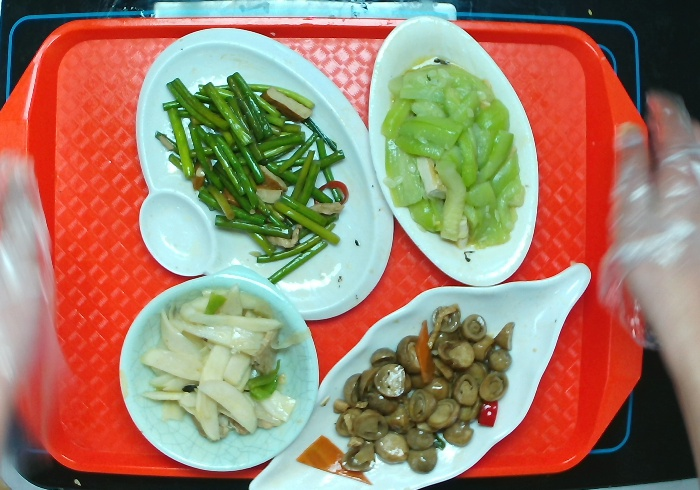RJxy-Bai_Se_Tuo_Yuan: (363, 14, 547, 290)
RJxy-Shu_Ye_Pan: (252, 262, 594, 487)
RJxy-Xiao_Jiao_Yuan_Wan: (116, 261, 325, 473)
RJxy-Zhan_Liao_Pan: (130, 27, 396, 323)
